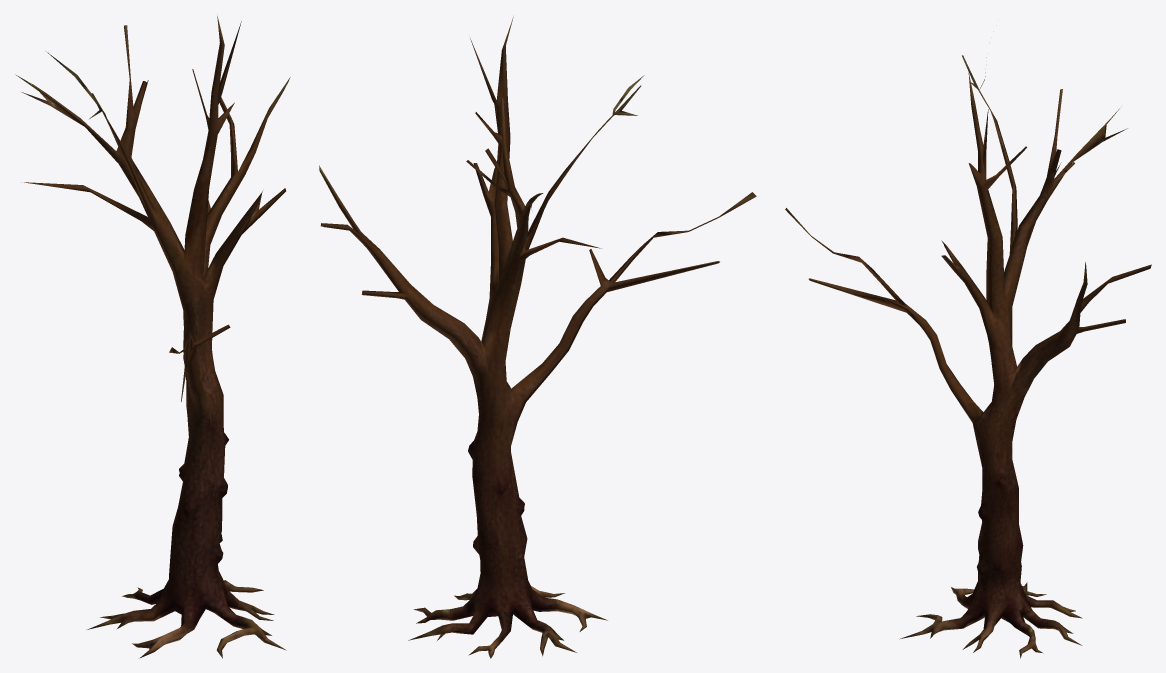
Rendered from dead_tree_1.glb.
3 renders of one model, left to right at view 1: azimuth 30°, elevation 25°; view 2: azimuth 150°, elevation 25°; view 3: azimuth 270°, elevation 25°, orthographic. The views are drawn at different scales.
Parts seen in each view (by area): view 1: tripo_node_7aa0678e; view 2: tripo_node_7aa0678e; view 3: tripo_node_7aa0678e.
Boxes of the visible parts, left/top/right/bottom form: tripo_node_7aa0678e: left=15, top=16, right=290, bottom=658; tripo_node_7aa0678e: left=319, top=17, right=756, bottom=658; tripo_node_7aa0678e: left=785, top=55, right=1151, bottom=658.
Bounding box in the file's own units: 6.94 × 14 × 8.38.
1 material, 1 textured.
